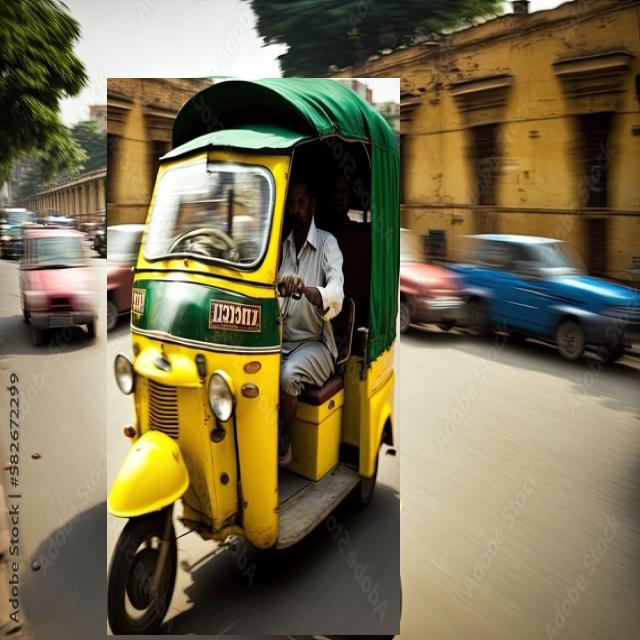autorickshaw: (108, 79, 400, 635)
